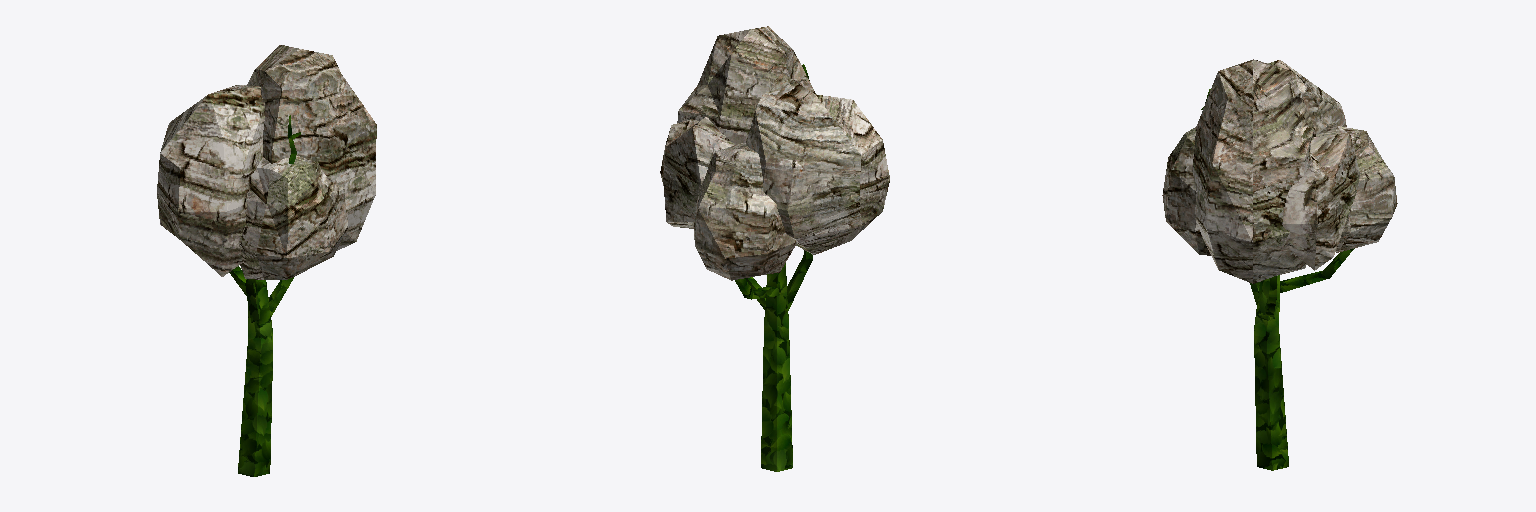
3 views of the same model, side by side, from view 1: azimuth 30°, elevation 25°; view 2: azimuth 150°, elevation 25°; view 3: azimuth 270°, elevation 25° (orthographic).
Visible parts, largest first — view 1: Tree_temp_climate_007_Mesh.006; view 2: Tree_temp_climate_007_Mesh.006; view 3: Tree_temp_climate_007_Mesh.006.
Part boxes in pixels (left/top/right/bottom): Tree_temp_climate_007_Mesh.006: left=157, top=45, right=376, bottom=476; Tree_temp_climate_007_Mesh.006: left=660, top=26, right=889, bottom=471; Tree_temp_climate_007_Mesh.006: left=1162, top=59, right=1397, bottom=470.
Bounding box in the file's own units: 2.92 × 5.84 × 2.97.
Materials: 1 (1 with a texture image).